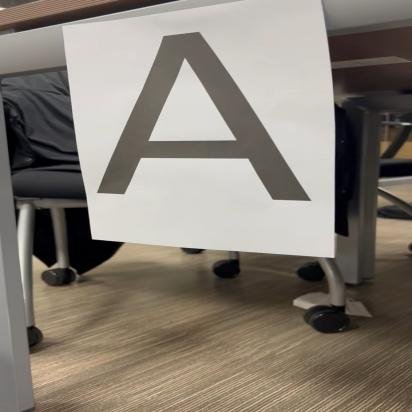seat: (98, 28, 315, 214)
